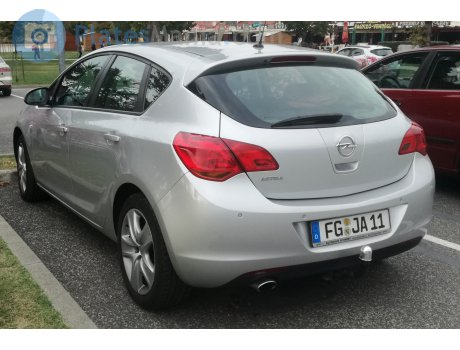License Plates: (318, 211, 388, 236)
